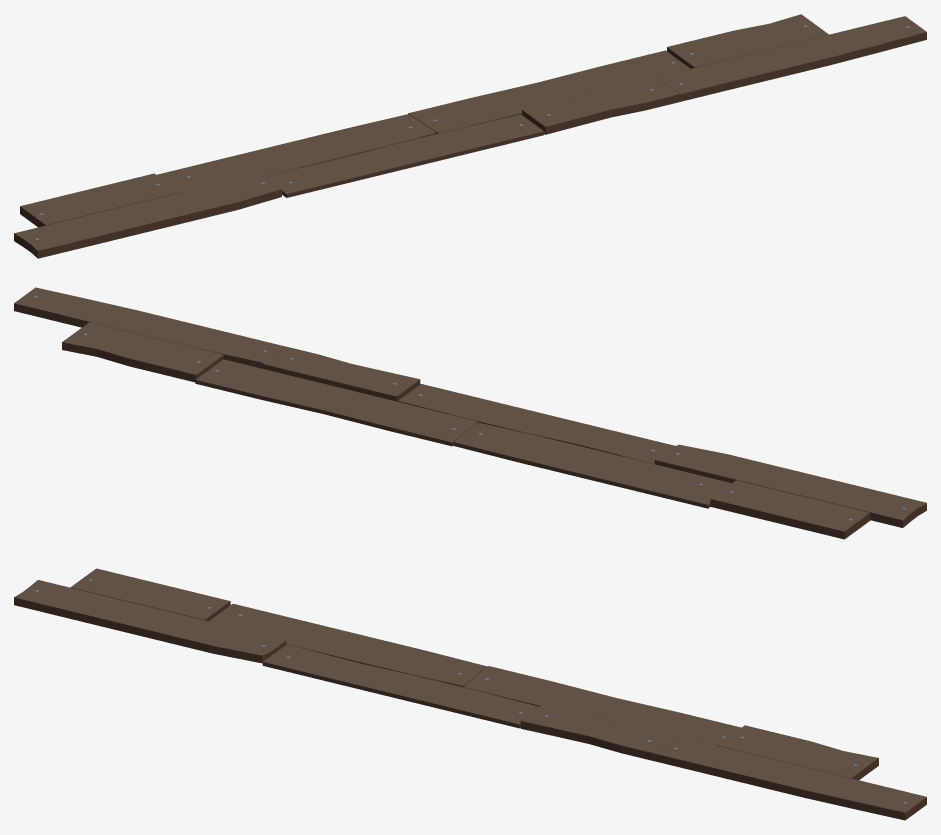
The model's file is Planks_Skinny_01.fbx.
3 views of the same model, one above another, from view 1: azimuth 30°, elevation 25°; view 2: azimuth 150°, elevation 25°; view 3: azimuth 330°, elevation 25° (orthographic).
Visible parts, largest first — view 1: Planks_Skinny_01; view 2: Planks_Skinny_01; view 3: Planks_Skinny_01.
Part boxes in pixels (x1,y1,x2,y2): Planks_Skinny_01: (14,14,926,258); Planks_Skinny_01: (14,287,926,539); Planks_Skinny_01: (14,568,926,820).
Size of the model in its own units: 427 by 3.93 by 43.83.
